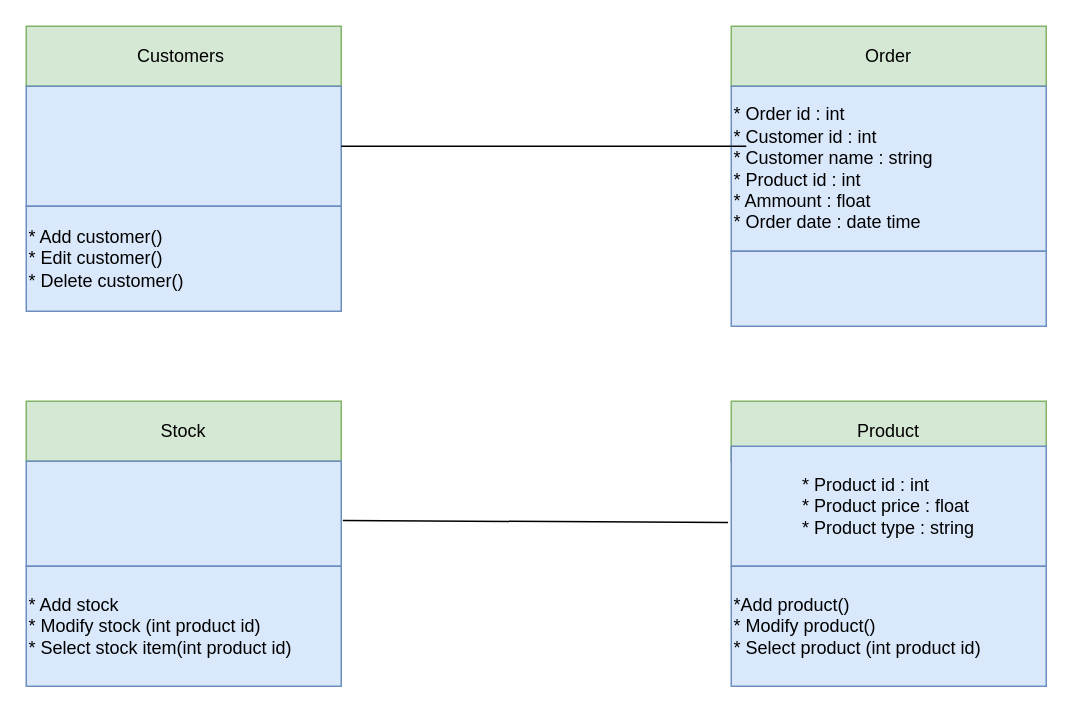
The diagram is 1073 pixels wide and 713 high, and some of its shapes have lost their labels. Here are the shapes that lost their labels. From the top down, the centre of each, then its label:
At point 183,145: "* Customerid :int * Customer_name :string * Adress : string * Phone :int".
At point 888,288: "* Create order(); * Edit order (int orderid)".
At point 183,513: "* Product id : int * Qusality : int * Shop number : int".
